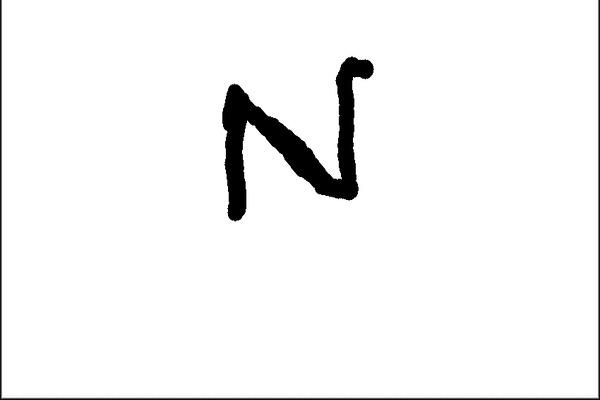N: (215, 54, 378, 224)
